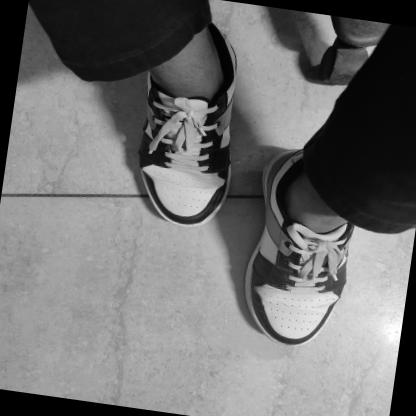ankle: (278, 207, 283, 212), (225, 83, 228, 86)
heel: (284, 151, 288, 154), (224, 36, 226, 38)
left_foot: (128, 21, 251, 232)
pinky: (324, 311, 329, 316), (152, 192, 155, 194)
right_foot: (236, 144, 364, 353)
toe: (266, 328, 272, 333), (205, 213, 208, 215)
